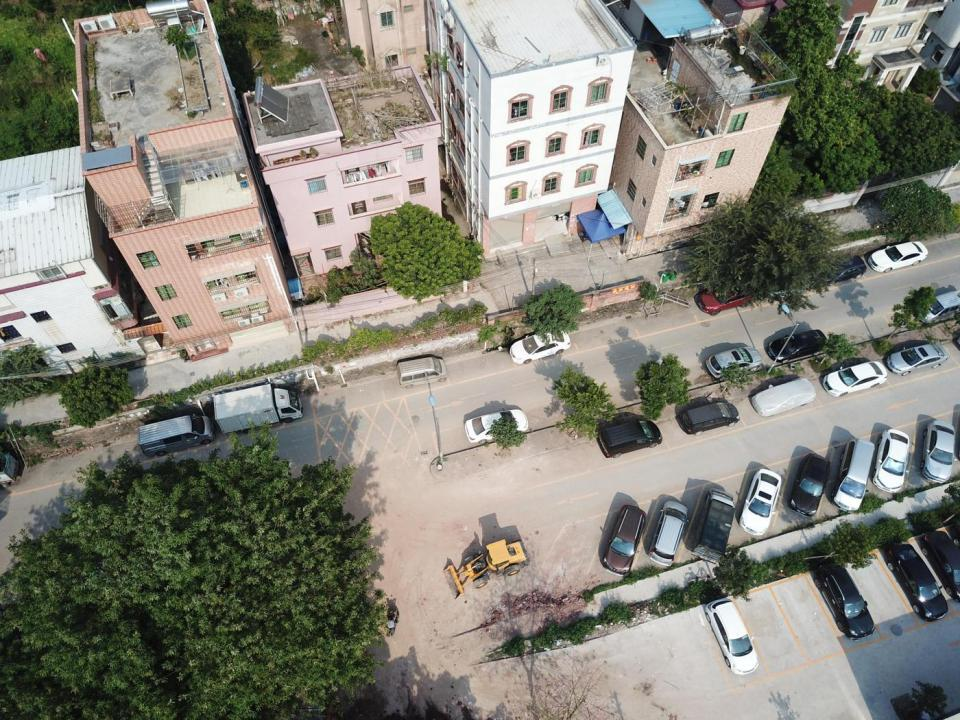car: (884, 543, 948, 621), (812, 563, 876, 640), (705, 597, 758, 675), (602, 504, 647, 575), (919, 531, 960, 602), (740, 468, 782, 535), (789, 453, 831, 518), (749, 377, 816, 416), (821, 359, 887, 398), (919, 420, 958, 483), (464, 409, 530, 445), (509, 328, 572, 364), (874, 430, 910, 492), (697, 280, 756, 317), (679, 401, 739, 436), (868, 240, 929, 274), (766, 329, 828, 362), (887, 343, 949, 376), (706, 346, 763, 381), (814, 253, 867, 289)
truck: (213, 384, 304, 435), (690, 488, 736, 564)
van: (830, 439, 877, 513), (137, 414, 214, 458), (646, 501, 689, 566), (597, 419, 663, 459), (396, 358, 448, 390), (917, 289, 960, 325)
